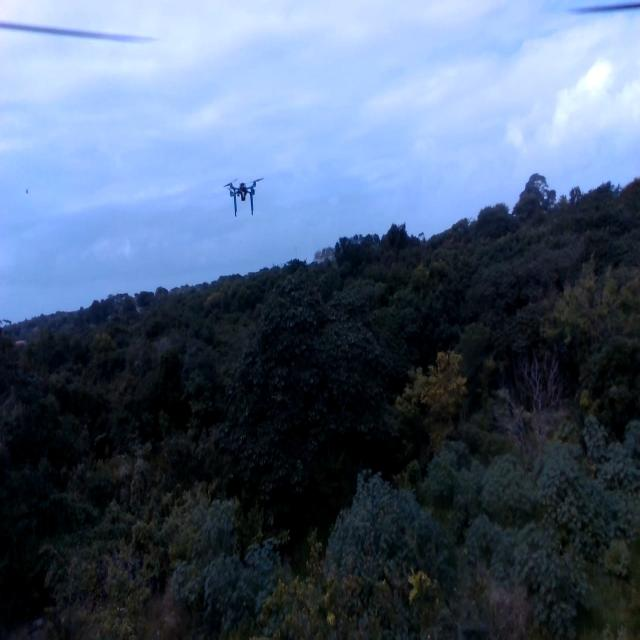-uav-: (219, 163, 266, 221)
